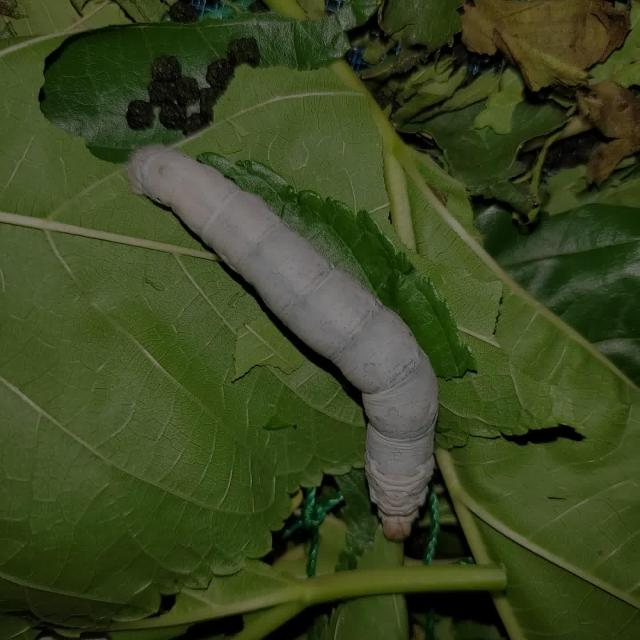Healthy: (117, 134, 440, 544)
